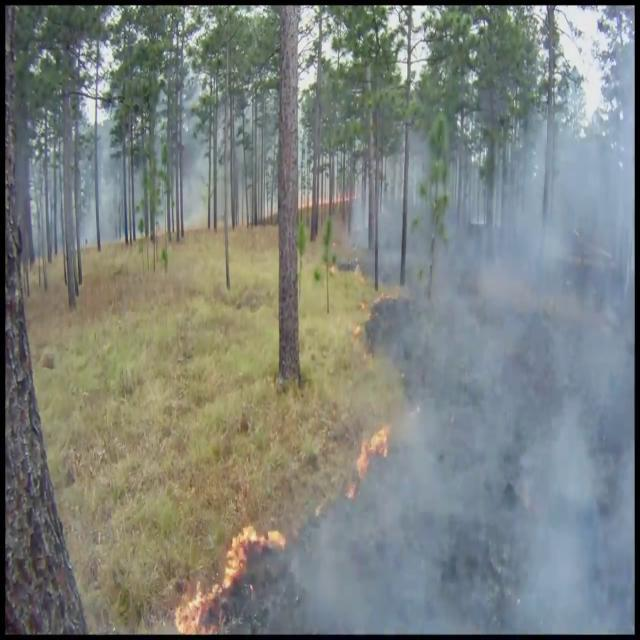Fire: (224, 514, 284, 588), (352, 416, 396, 493), (173, 578, 223, 634)
Smoke: (320, 51, 634, 633)
